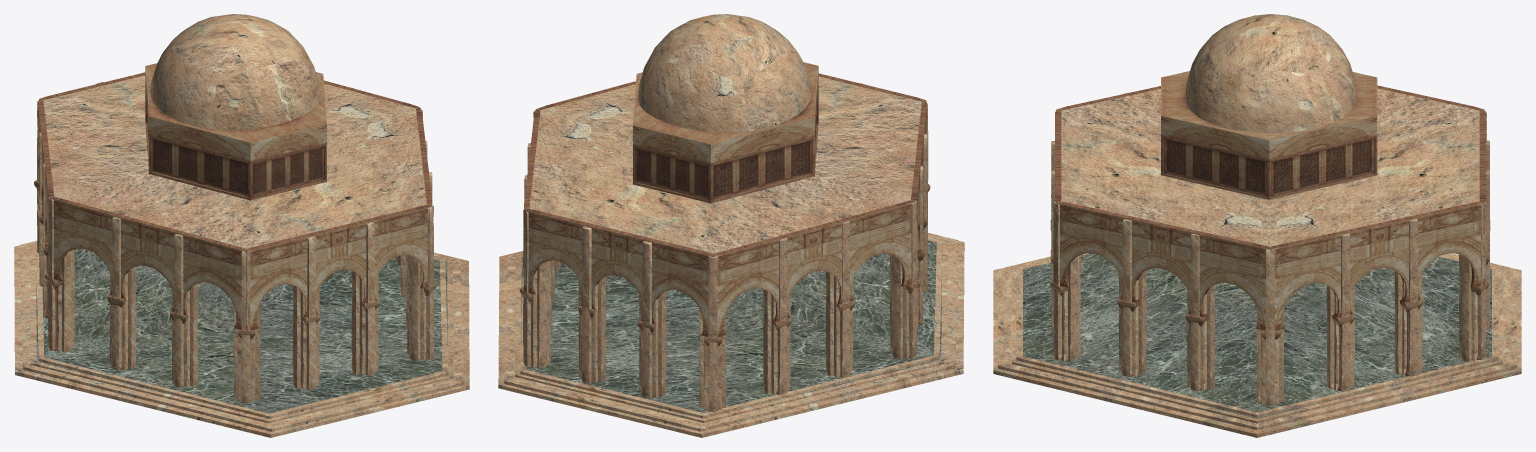
File: build2a.gltf
The picture shows the model from 3 angles, left to right: view 1: azimuth 30°, elevation 25°; view 2: azimuth 150°, elevation 25°; view 3: azimuth 270°, elevation 25°; orthographic projection. The views are drawn at different scales.
Visible parts, largest first — view 1: build2a; view 2: build2a; view 3: build2a.
Part boxes in pixels (x1,y1,x2,y2): build2a: (14,14,469,437); build2a: (498,14,964,437); build2a: (993,14,1521,437).
Bounding box in the file's own units: 27.18 × 16.71 × 26.61.
3 materials, 3 textured.
